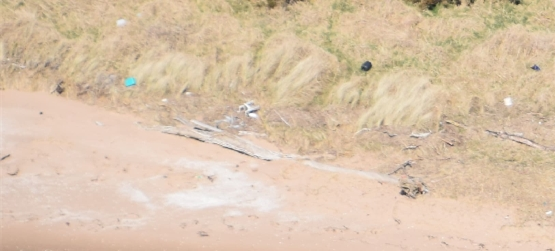scattered_barrel: (357, 44, 546, 112), (42, 9, 145, 108)
straight_bar: (159, 112, 278, 166)
